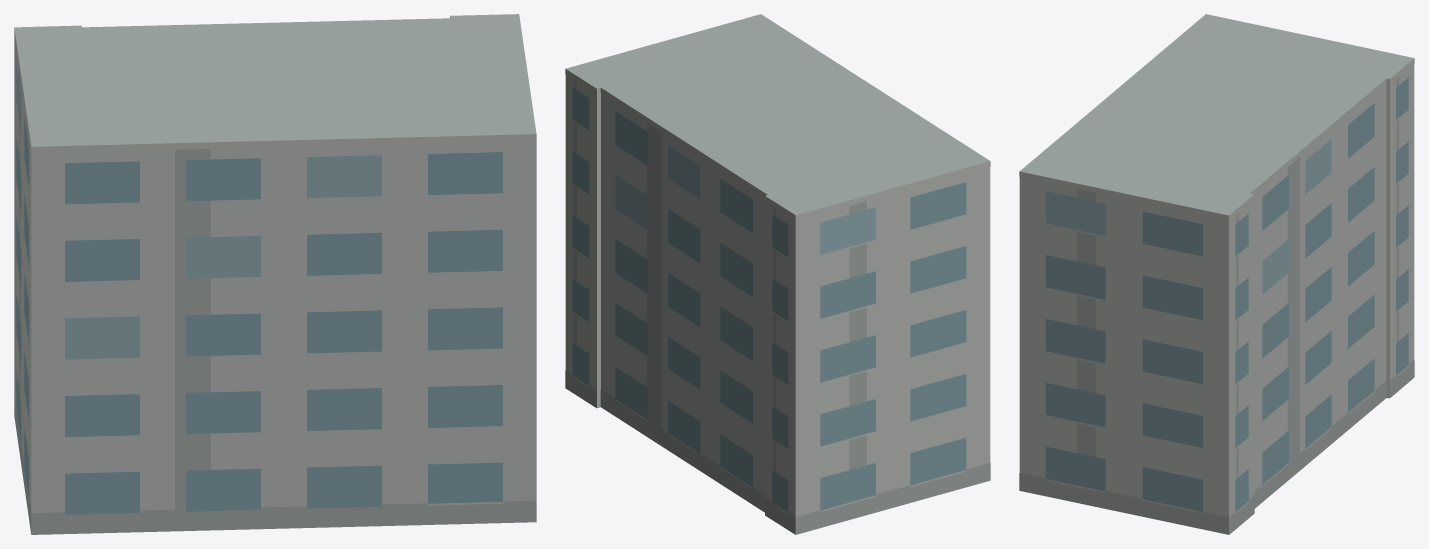
The model's file is survey-upis-32950968.glb.
The picture shows the model from 3 angles, left to right: view 1: azimuth 30°, elevation 25°; view 2: azimuth 150°, elevation 25°; view 3: azimuth 270°, elevation 25°; orthographic projection. The views are drawn at different scales.
Visible parts, largest first — view 1: survey-upis-32950968.tmp; view 2: survey-upis-32950968.tmp; view 3: survey-upis-32950968.tmp.
Part boxes in pixels (x1,y1,x2,y2): survey-upis-32950968.tmp: (14, 14, 536, 534); survey-upis-32950968.tmp: (565, 14, 990, 534); survey-upis-32950968.tmp: (1019, 14, 1414, 534).
Bounding box in the file's own units: 19.3 × 14.25 × 15.98.
